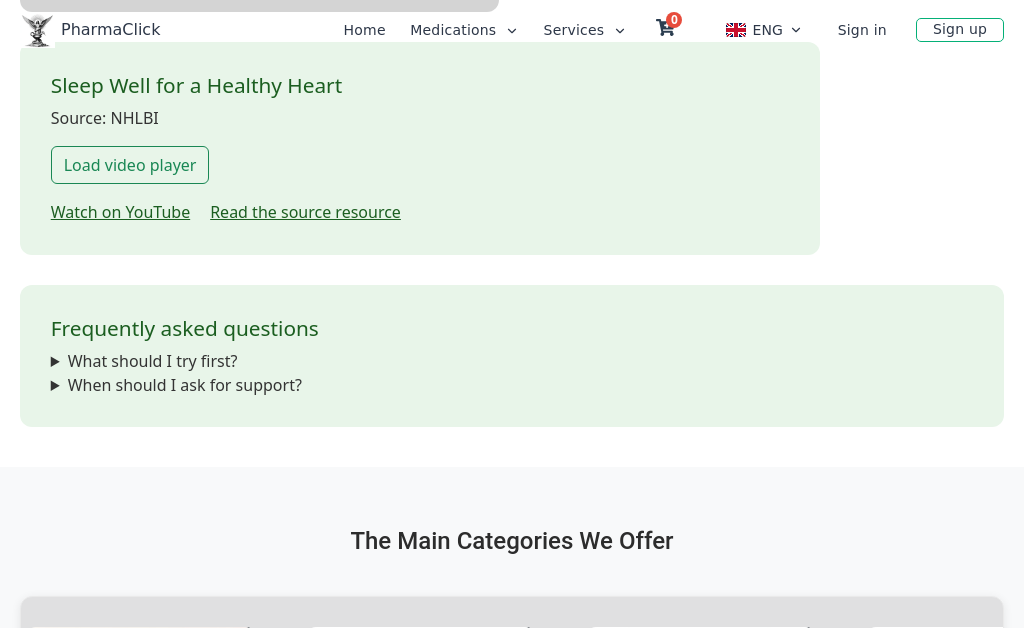
Test: localizes the body copy on /Slep in all three languages
(page scrolled)
Click the heading "When should I ask for support?".
click(185, 384)  # box [68,374,302,396]
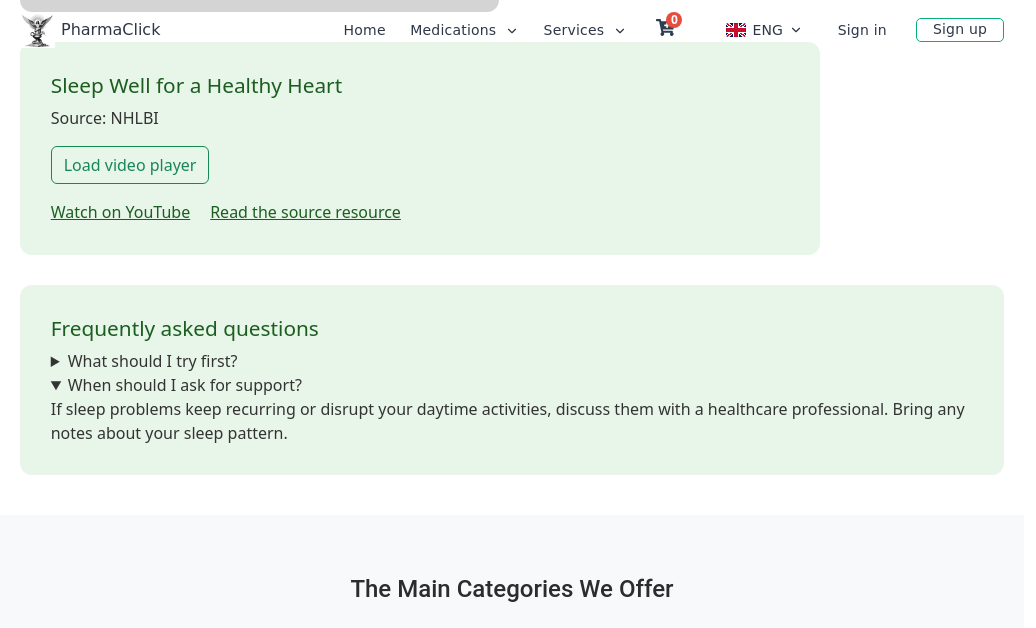
Expected: the text "If sleep problems keep recurring or disrupt your daytime activities, discuss them with a healthcare professional. Bring " is shown, [51,398,965,444]
Click the button "ENG".
click(765, 30)  # box [721,12,809,48]
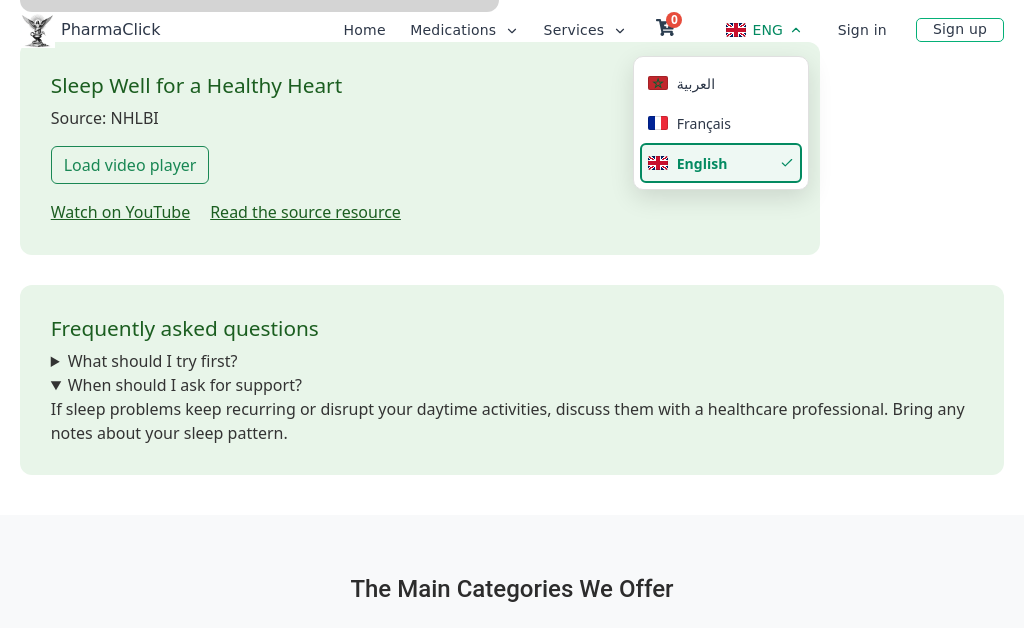
Click the menu item "Français".
click(721, 123)  # box [640,103,802,143]
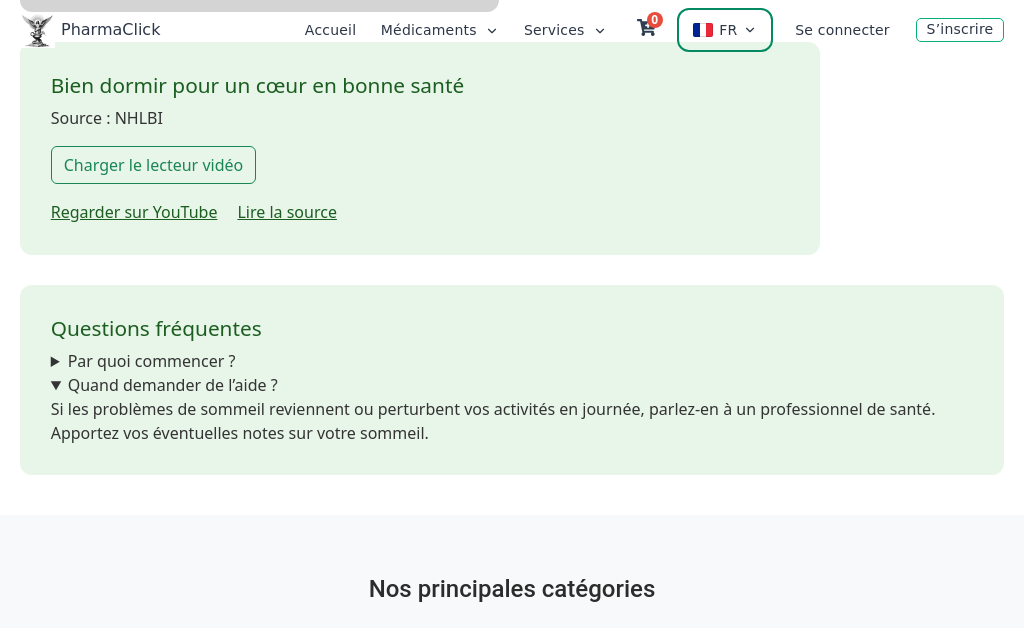
Expected: the text "Si les problèmes de sommeil reviennent ou perturbent vos activités en journée, parlez-en à un professionnel de santé. Ap" is shown, [51,398,935,444]
Click the button "FR".
click(725, 30)  # box [681,12,769,48]
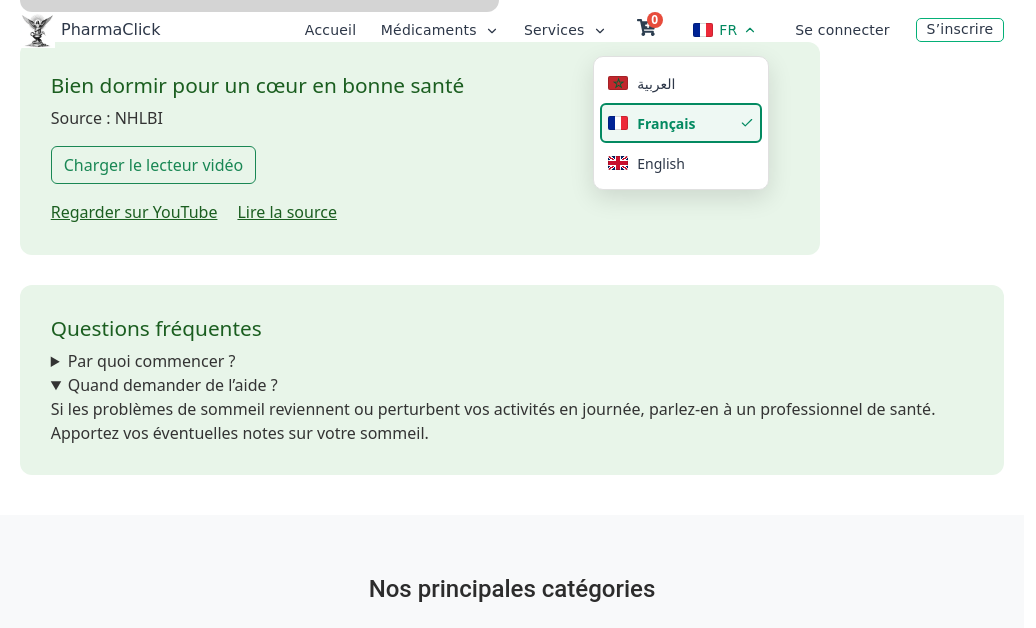
Click the menu item "العربية".
click(681, 83)  # box [600,63,762,103]
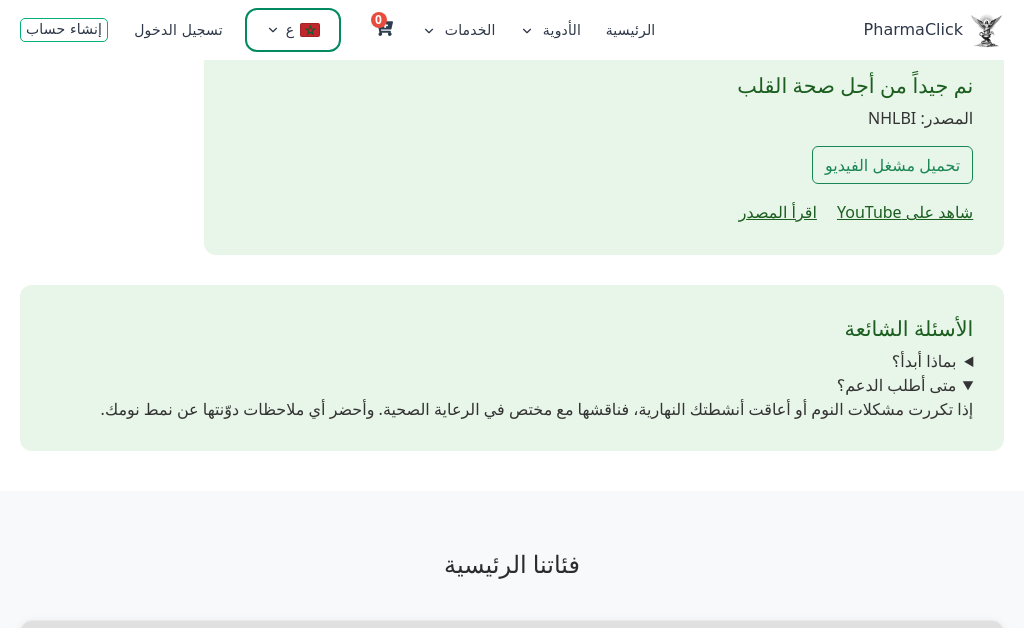
Expected: the text "إذا تكررت مشكلات النوم أو أعاقت أنشطتك النهارية، فناقشها مع مختص في الرعاية الصحية. وأحضر أي ملاحظات دوّنتها عن نمط نومك" is shown, [101,398,973,420]
